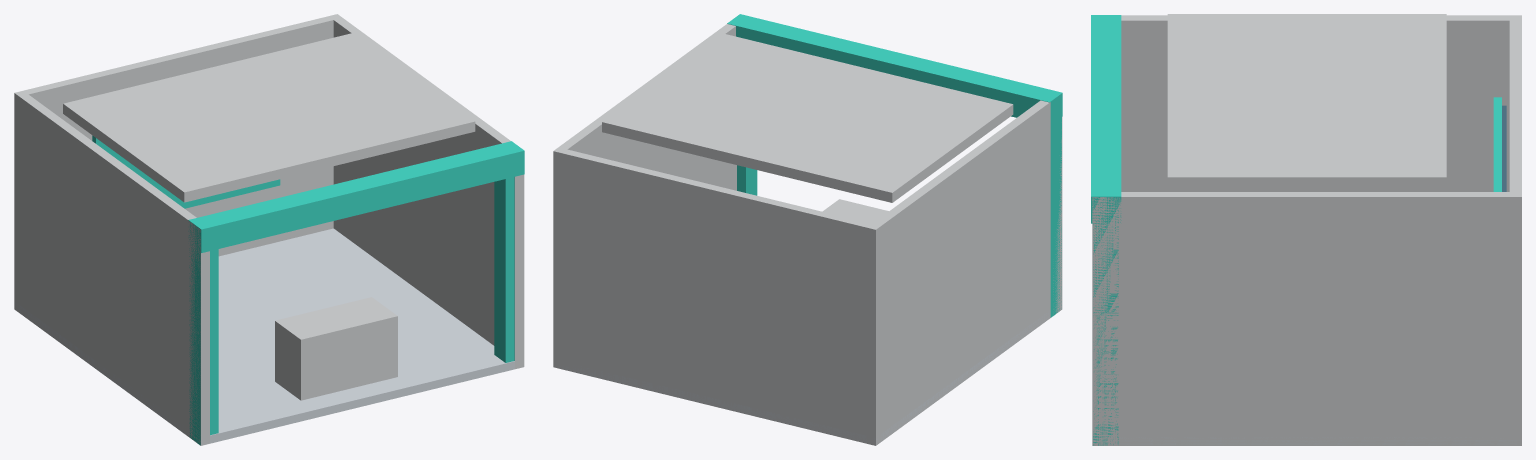
The picture shows the model from 3 angles, left to right: view 1: azimuth 30°, elevation 25°; view 2: azimuth 150°, elevation 25°; view 3: azimuth 270°, elevation 25°; orthographic projection. The views are drawn at different scales.
Parts seen in each view (by area): view 1: Exhibition Booth Concept; view 2: Exhibition Booth Concept; view 3: Exhibition Booth Concept.
Part boxes in pixels (x1,y1,x2,y2): Exhibition Booth Concept: (14, 14, 524, 445); Exhibition Booth Concept: (553, 14, 1062, 445); Exhibition Booth Concept: (1091, 14, 1521, 445).
Size of the model in its own units: 5 by 3.34 by 5.02.
